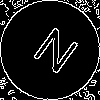N: (25, 25, 81, 84)
